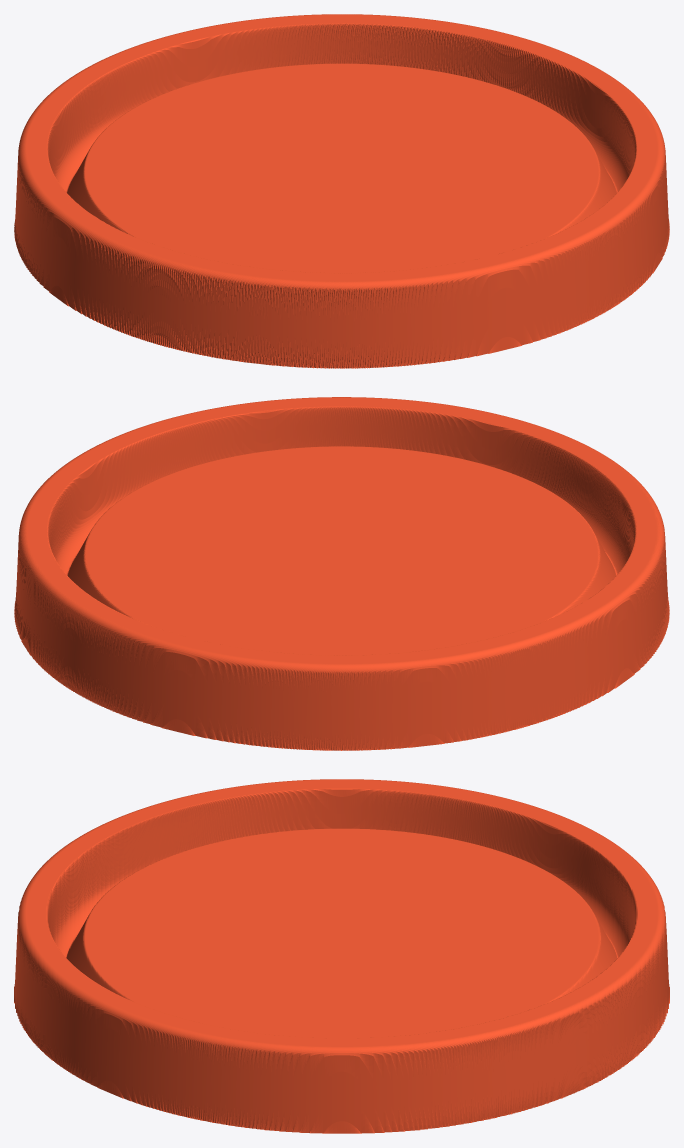
File: mold.glb
The picture shows the model from 3 angles, top to bottom: view 1: azimuth 30°, elevation 25°; view 2: azimuth 150°, elevation 25°; view 3: azimuth 270°, elevation 25°; orthographic projection.
Visible parts, largest first — view 1: geometry_0; view 2: geometry_0; view 3: geometry_0.
Part boxes in pixels (x1=…): geometry_0: x1=14, y1=14, x2=669, y2=368; geometry_0: x1=14, y1=397, x2=669, y2=750; geometry_0: x1=14, y1=779, x2=669, y2=1133.
Size of the model in its own units: 0.1985 by 0.0273 by 0.1985.
